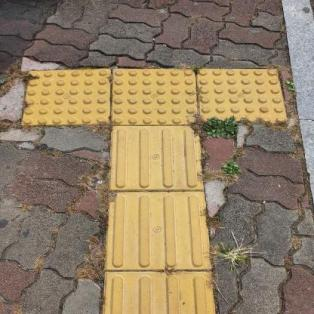Podoctatil: (16, 62, 295, 313)
